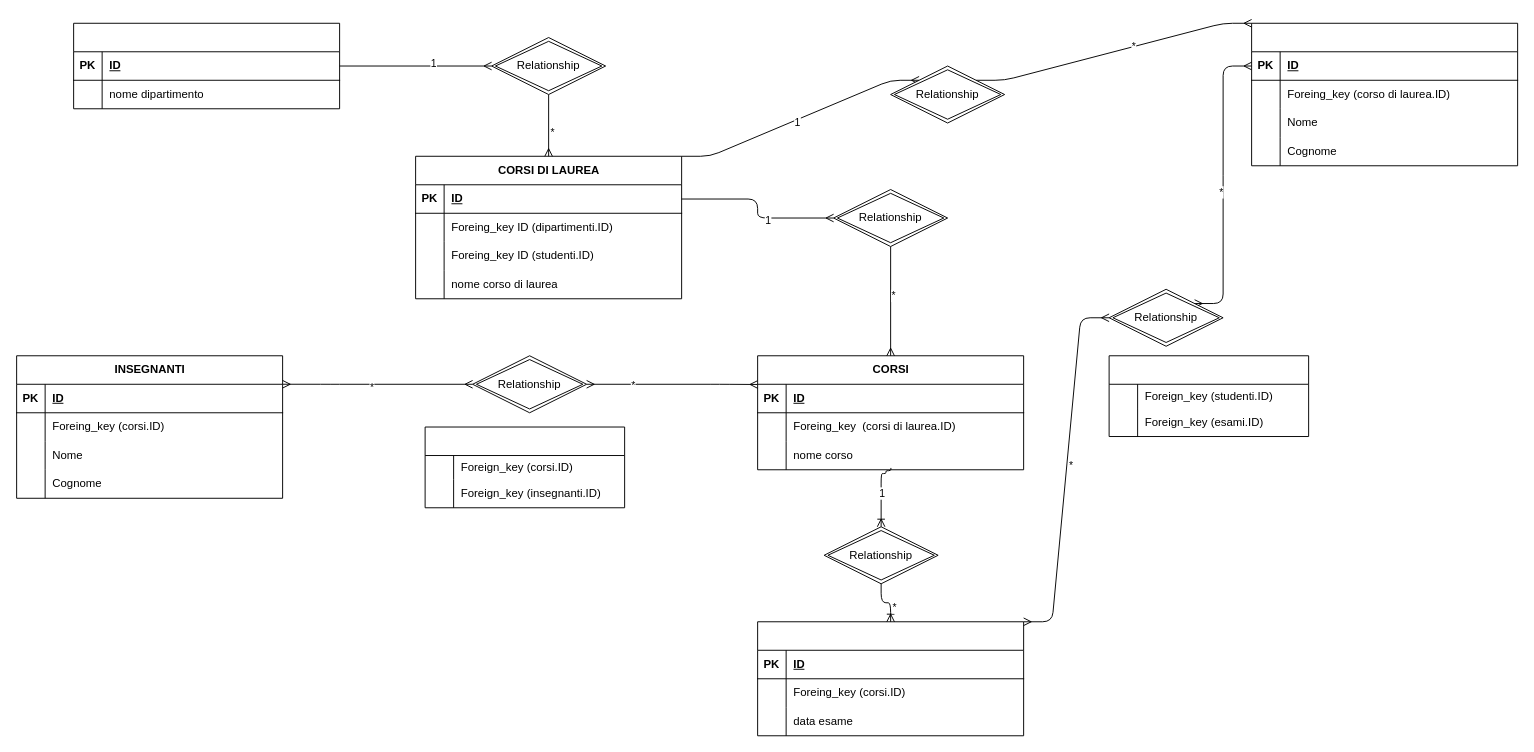
Some shapes in this 1534 by 752 pixel diagram are drawn without their labels. Each missing label, with the box of its shape:
CORSO_INSEGNANTI: (424, 426, 625, 508)
DIPARTIMENTI: (73, 22, 340, 109)
ESAMI: (757, 621, 1024, 736)
STUDENTI: (1251, 22, 1518, 166)
STUDENTI_ESAMI: (1108, 355, 1309, 437)
